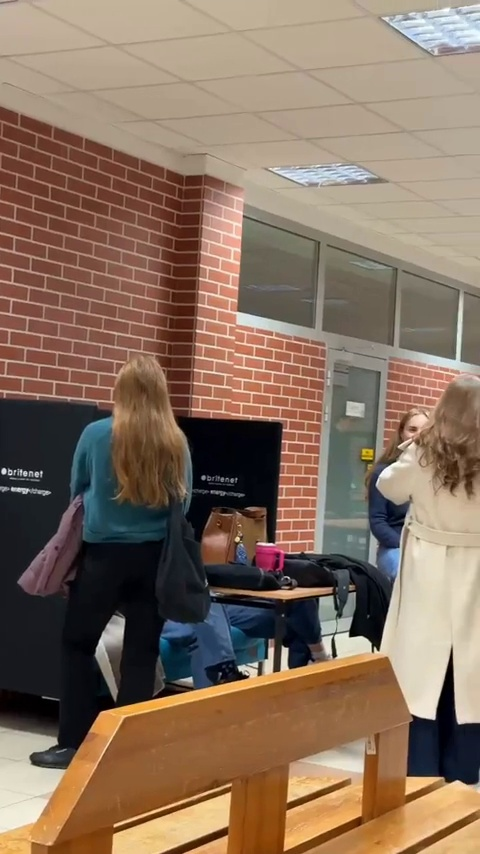no vest: (60, 353, 200, 725), (378, 369, 480, 727)
